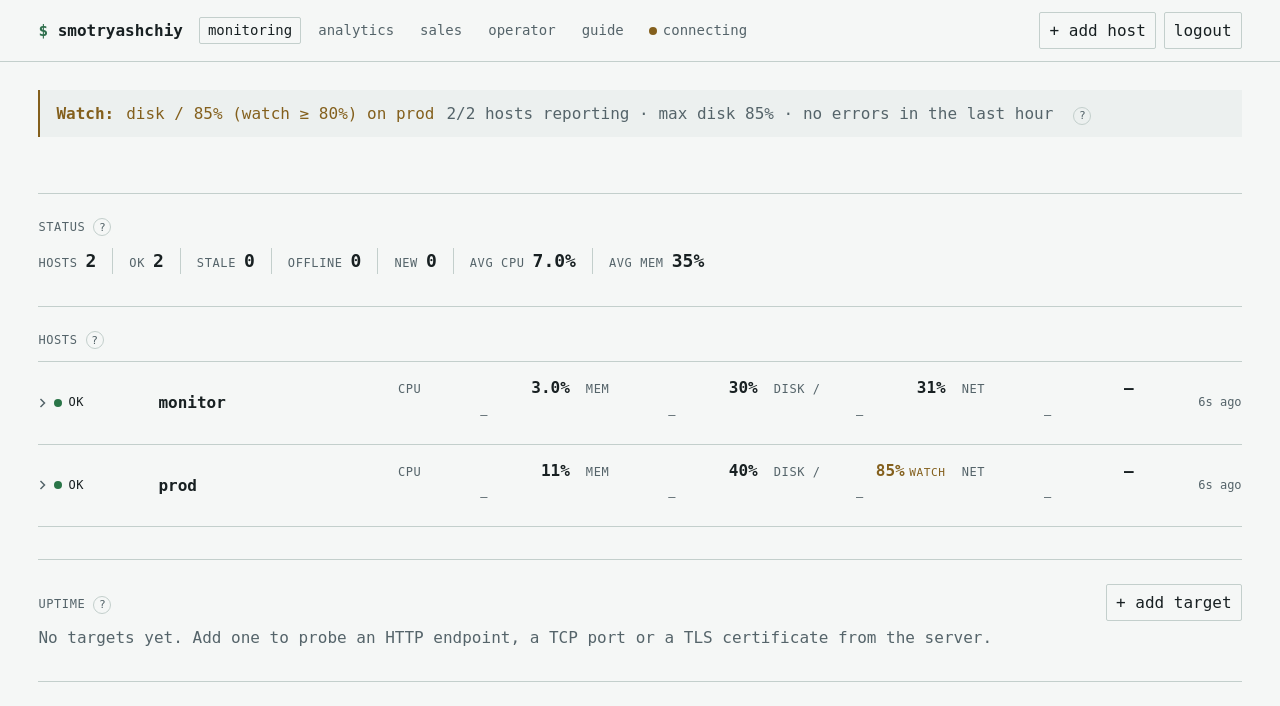
Test: "?" help › has no axe violations with a popover open
Step 1. Click the button named "What is a host row?" → click(94, 340), box x1=86 y1=332 x2=104 y2=350
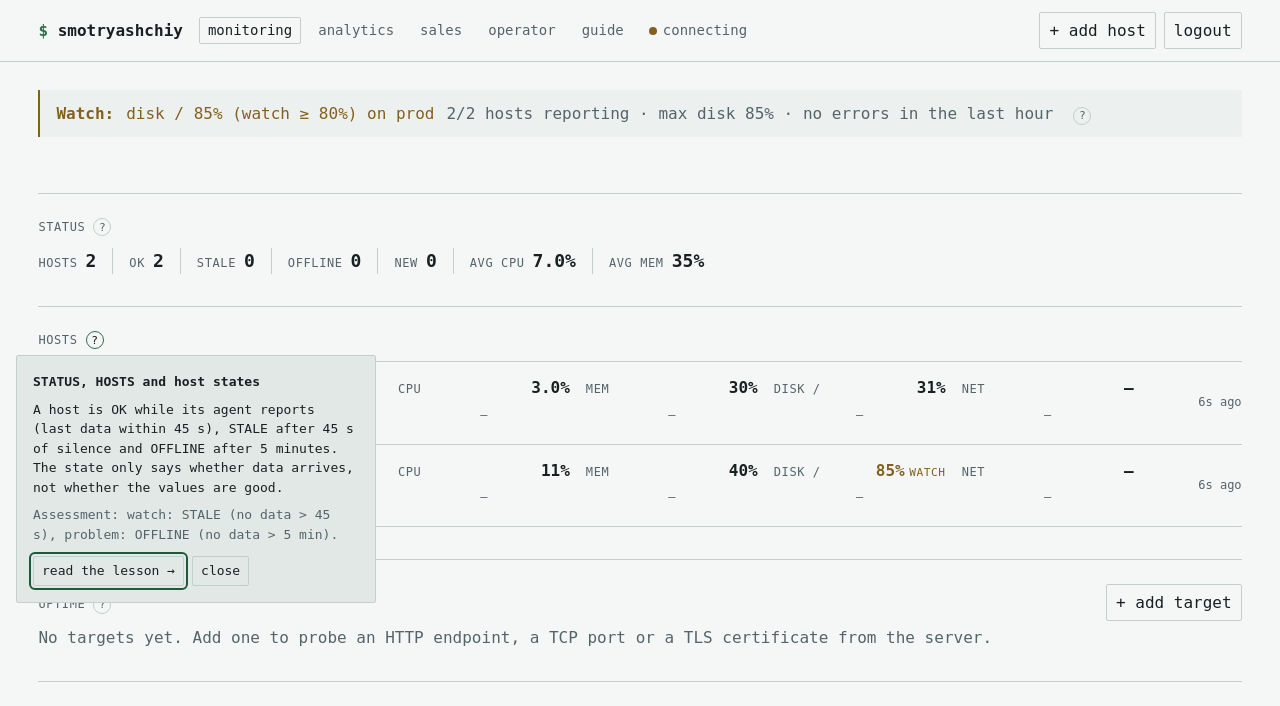
Result: the dialog is shown at x1=16 y1=355 x2=376 y2=602
